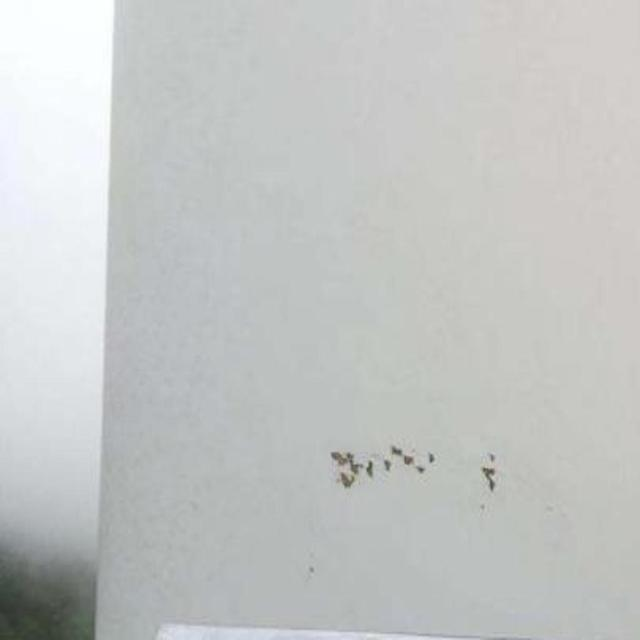surface_peeling: (307, 444, 507, 496)
